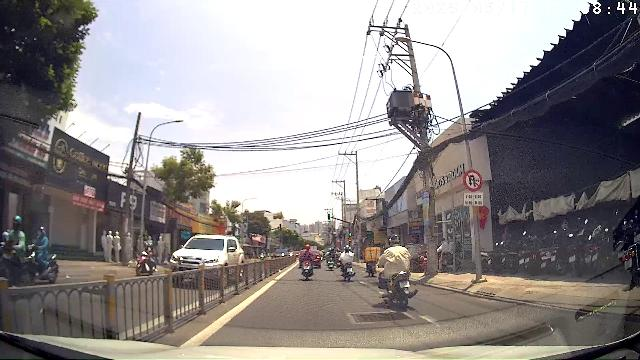124b-cam-oto-quay-dau-xe: (462, 169, 483, 191)
